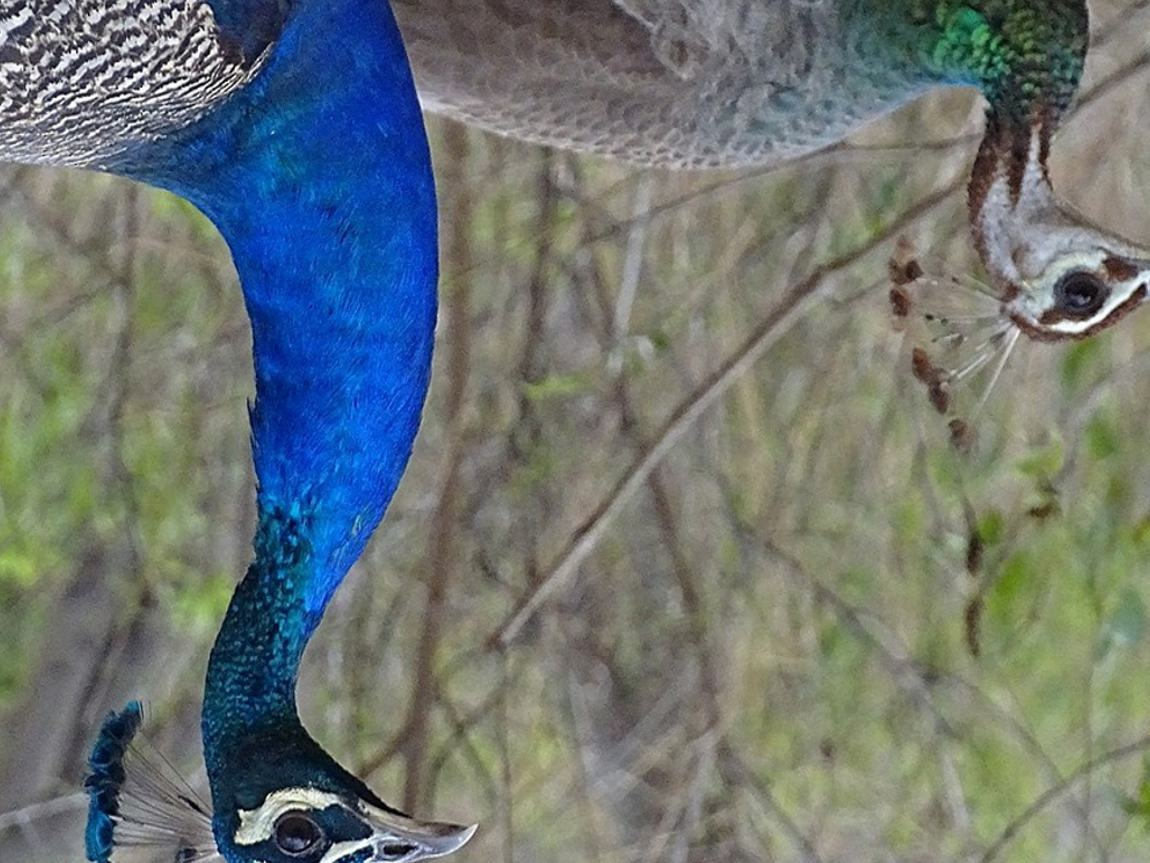peacock: (19, 53, 502, 855)
